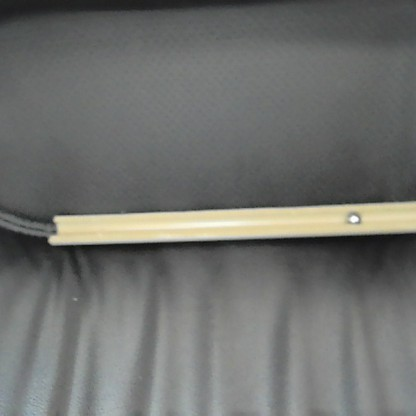ironball: (344, 209, 361, 225)
